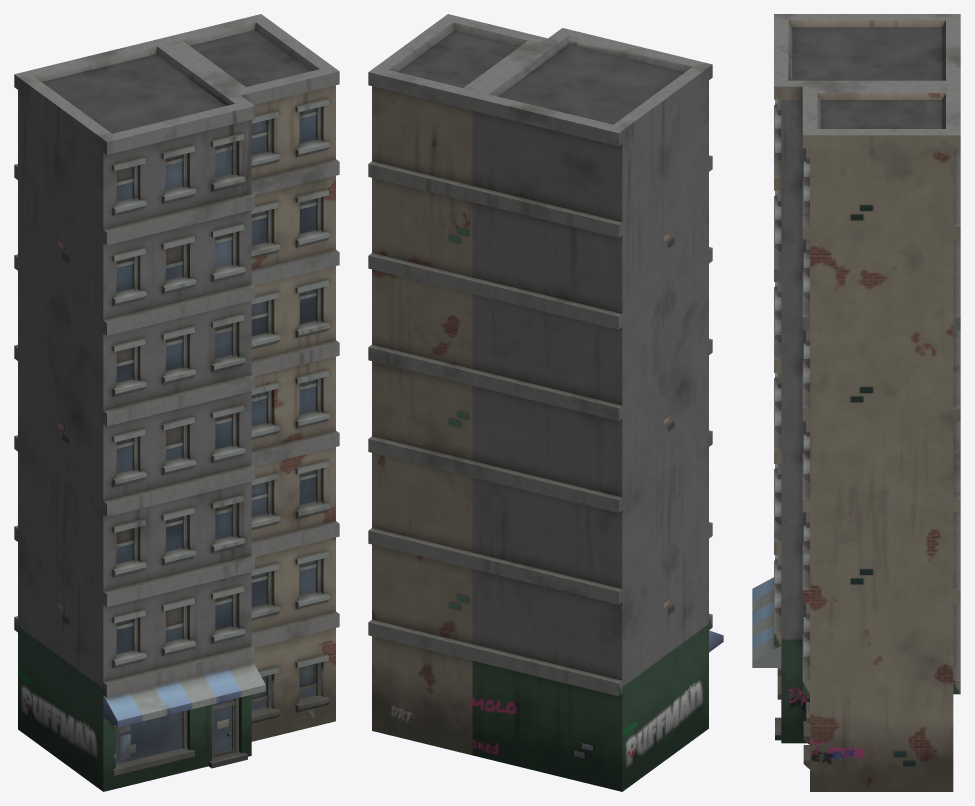
The model's file is building_G_8f.glb.
3 views of the same model, side by side, from view 1: azimuth 30°, elevation 25°; view 2: azimuth 150°, elevation 25°; view 3: azimuth 270°, elevation 25° (orthographic).
Parts seen in each view (by area): view 1: ground; view 2: ground; view 3: ground.
Boxes of the visible parts, x1,y1,x2,y2 form: ground: (14,14,339,791); ground: (368,14,723,791); ground: (752,14,960,791).
Size of the model in its own units: 2.01 by 5.05 by 1.45.
Materials: 2 (2 with a texture image).
